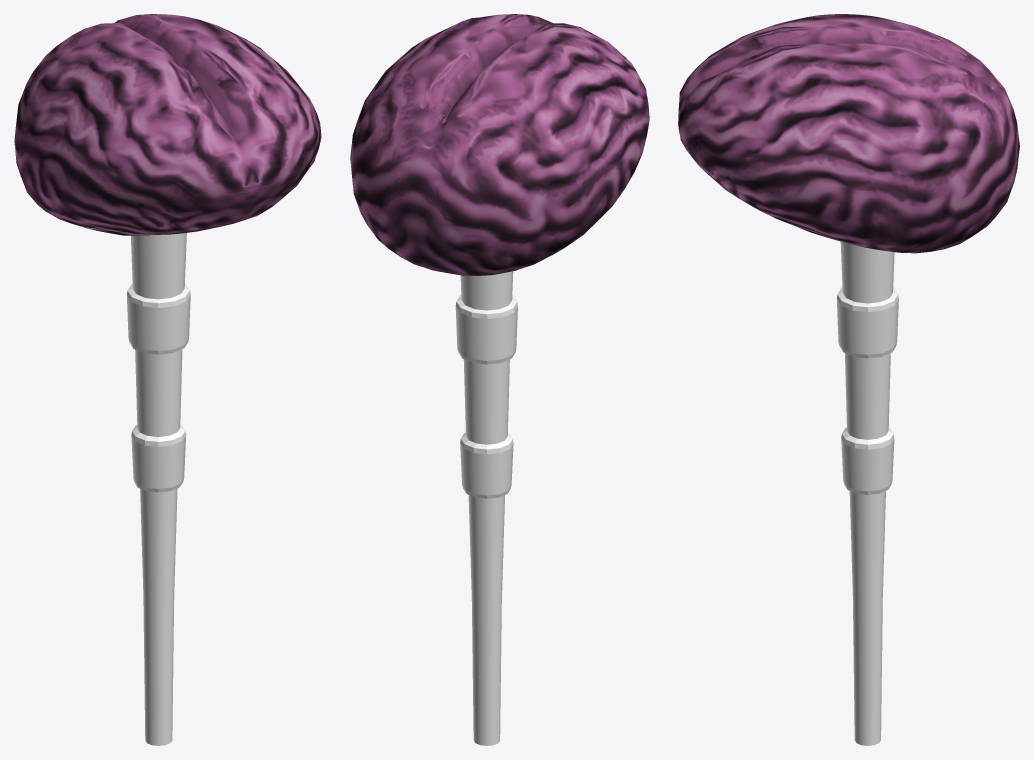
The model's file is 1FinalBrainStick.FBX.
The picture shows the model from 3 angles, left to right: view 1: azimuth 30°, elevation 25°; view 2: azimuth 150°, elevation 25°; view 3: azimuth 270°, elevation 25°; orthographic projection. The views are drawn at different scales.
Parts seen in each view (by area): view 1: brainlow; view 2: brainlow; view 3: brainlow.
Boxes of the visible parts, box(x1,y1,x2,y2) form: brainlow: box(14, 14, 321, 745); brainlow: box(350, 14, 649, 745); brainlow: box(678, 14, 1019, 745).
Size of the model in its own units: 33.43 by 89.68 by 39.48.
